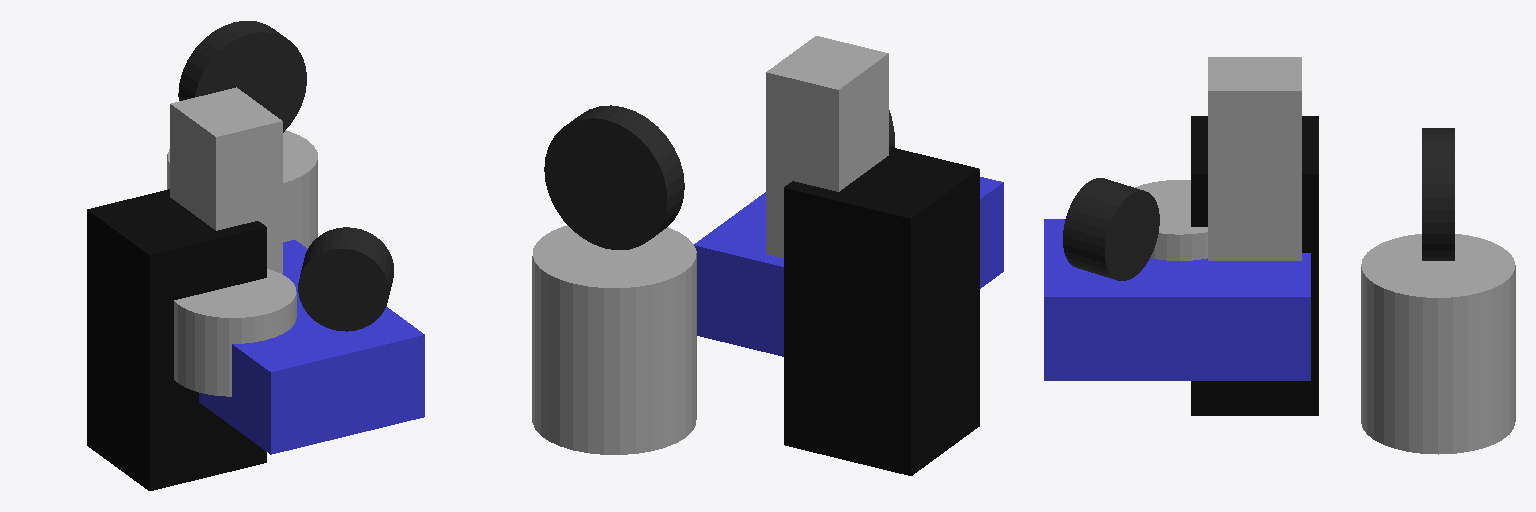
The robot description file, URDF, robot "evolved_robot":
<?xml version="1.0"?>
<robot name="evolved_robot">
  <material name="metal">
    <color rgba="0.7 0.7 0.7 1.0"/>
  </material>
  <material name="plastic">
    <color rgba="0.3 0.3 0.9 1.0"/>
  </material>
  <material name="rubber">
    <color rgba="0.1 0.1 0.1 1.0"/>
  </material>
  <material name="red">
    <color rgba="1.0 0.0 0.0 1.0"/>
  </material>
  <material name="wheel_material">
    <color rgba="0.2 0.2 0.2 1.0"/>
  </material>
  <link name="base_link">
    <visual>
      <geometry><cylinder radius="0.05588898639542036" length="0.07639821005748276"/></geometry>
      <material name="metal"/>
    </visual>
    <collision>
      <geometry><cylinder radius="0.05588898639542036" length="0.07639821005748276"/></geometry>
    </collision>
    <inertial>
      <mass value="5.0"/>
      <inertia ixx="0.012672852417424755" ixy="0" ixz="0" 
               iyy="0.012672852417424755" iyz="0" 
               izz="0.01561789400153741"/>
    </inertial>
  </link>
  <link name="link1">
    <visual>
      <geometry><box size="0.11917431337635126 0.11061178327480387 0.2294809829607225"/></geometry>
      <material name="rubber"/>
    </visual>
    <collision>
      <geometry><box size="0.11917431337635126 0.11061178327480387 0.2294809829607225"/></geometry>
    </collision>
    <inertial>
      <mass value="0.5"/>
      <inertia ixx="0.005408040678320966" ixy="0" ixz="0" 
               iyy="0.005572003209112016" iyz="0" 
               izz="0.0022031236306630795"/>
    </inertial>
  </link>
  <joint name="joint1" type="prismatic">
    <parent link="base_link"/>
    <child link="link1"/>
    <origin xyz="-0.02002385730227043 0.0649827344271927 -0.026906907739256587" rpy="0 0 0"/>
    <axis xyz="-0.31939640161322247 -0.734801204132005 0.5983754081199197"/>
    <dynamics damping="0.91" friction="0.1"/>
    <limit lower="-2.6669289893398638" upper="1.3212163734831894" effort="100" velocity="100"/>
  </joint>
  <link name="link2">
    <visual>
      <geometry>
        <cylinder radius="0.04036086922406924" length="0.04460145721950509"/>
      </geometry>
      <material name="wheel_material"/>
    </visual>
    <collision>
      <geometry>
        <cylinder radius="0.04036086922406924" length="0.04460145721950509"/>
      </geometry>
    </collision>
    <inertial>
      <mass value="1.0"/>
      <inertia ixx="0.0005730241066392169" ixy="0" ixz="0" 
               iyy="0.0005730241066392169" iyz="0" 
               izz="0.0008144998822612099"/>
    </inertial>
  </link>
  <joint name="joint2" type="continuous">
    <parent link="base_link"/>
    <child link="link2"/>
    <origin xyz="0.08096304352146494 -0.05882309431509322 0.0547200042663707" rpy="1.5708 0.5003718691182113 -0.6283185307179588"/>
    <axis xyz="0 0 1"/>
    <dynamics damping="0.13657292100048057" friction="0.1"/>
  </joint>
  <link name="link3">
    <visual>
      <geometry><box size="0.15703034311371555 0.22925244393886302 0.08"/></geometry>
      <material name="plastic"/>
    </visual>
    <collision>
      <geometry><box size="0.15703034311371555 0.22925244393886302 0.08"/></geometry>
    </collision>
    <inertial>
      <mass value="0.5"/>
      <inertia ixx="0.004913056920995127" ixy="0" ixz="0" 
               iyy="0.0025882107215342695" iyz="0" 
               izz="0.0064346009758627296"/>
    </inertial>
  </link>
  <joint name="joint3" type="fixed">
    <parent link="link1"/>
    <child link="link3"/>
    <origin xyz="0.06958715668817562 -0.06667316978904815 0" rpy="0 0 0"/>
    <axis xyz="-0.12036308692576936 -0.7880062421866469 -0.6037871227349744"/>
    <dynamics damping="0.24508194084643747" friction="0.1"/>
  </joint>
  <link name="link4">
    <visual>
      <geometry><cylinder radius="0.06642194101370963" length="0.1485855096572608"/></geometry>
      <material name="metal"/>
    </visual>
    <collision>
      <geometry><cylinder radius="0.06642194101370963" length="0.1485855096572608"/></geometry>
    </collision>
    <inertial>
      <mass value="0.5"/>
      <inertia ixx="0.002942773035349509" ixy="0" ixz="0" 
               iyy="0.002942773035349509" iyz="0" 
               izz="0.0022059371240143607"/>
    </inertial>
  </link>
  <joint name="joint4" type="fixed">
    <parent link="link3"/>
    <child link="link4"/>
    <origin xyz="0.08851517155685777 0.2242194162003283 0" rpy="0 0 0"/>
    <axis xyz="-0.5367192651573203 -0.7936743974657241 -0.2863797849297436"/>
    <dynamics damping="0.8005474401665198" friction="0.1"/>
  </joint>
  <link name="link5">
    <visual>
      <geometry><box size="0.06773954950073251 0.08095161333561414 0.16200251282294512"/></geometry>
      <material name="metal"/>
    </visual>
    <collision>
      <geometry><box size="0.06773954950073251 0.08095161333561414 0.16200251282294512"/></geometry>
    </collision>
    <inertial>
      <mass value="0.5"/>
      <inertia ixx="0.0027331648218822733" ixy="0" ixz="0" 
               iyy="0.00256945506062589" iyz="0" 
               izz="0.0009284841890167475"/>
    </inertial>
  </link>
  <joint name="joint5" type="fixed">
    <parent link="link1"/>
    <child link="link5"/>
    <origin xyz="0.05059464853824552 0 0.12474049148036125" rpy="0 0 0"/>
    <axis xyz="0.30200667254420793 -0.337913532036312 0.8914069859528363"/>
    <dynamics damping="0.9520378779889687" friction="0.1"/>
  </joint>
  <link name="link6">
    <visual>
      <geometry>
        <cylinder radius="0.057427748730224985" length="0.02803689590286614"/>
      </geometry>
      <material name="wheel_material"/>
    </visual>
    <collision>
      <geometry>
        <cylinder radius="0.057427748730224985" length="0.02803689590286614"/>
      </geometry>
    </collision>
    <inertial>
      <mass value="1.0"/>
      <inertia ixx="0.0008899922087111437" ixy="0" ixz="0" 
               iyy="0.0008899922087111437" iyz="0" 
               izz="0.0016489731621109286"/>
    </inertial>
  </link>
  <joint name="joint6" type="continuous">
    <parent link="link4"/>
    <child link="link6"/>
    <origin xyz="0.0 0.0 0.1417205035588554" rpy="1.5708 0 0"/>
    <axis xyz="0 0 1"/>
    <dynamics damping="0.6715153224590337" friction="0.1"/>
  </joint>
</robot>

--- What the picture shows (computed from the rendered views, not written in the file) ---
3 views of the same robot in one strip: view 1: azimuth 30°, elevation 25°; view 2: azimuth 150°, elevation 25°; view 3: azimuth 270°, elevation 25° (orthographic).
Model evolved_robot with 7 links and 6 joints (2 continuous, 1 prismatic, 3 fixed), rooted at base_link, posed all joints at 0.
Visible links, largest first — view 1: link1, link3, link5, base_link, link6, link2, link4; view 2: link1, link4, link5, link6, link3; view 3: link3, link4, link5, link1, link2, link6, base_link.
Boxes of the visible links, x1,y1,x2,y2 form: link1: (87,189,266,490); link3: (199,240,424,454); link5: (170,87,282,274); base_link: (174,269,296,396); link6: (178,21,306,132); link2: (298,227,393,331); link4: (167,130,317,248); link1: (784,147,979,475); link4: (532,225,696,454); link5: (766,36,888,257); link6: (544,105,684,249); link3: (694,177,1003,356); link3: (1044,219,1310,380); link4: (1361,234,1515,454); link5: (1208,57,1301,260); link1: (1191,116,1318,415); link2: (1063,178,1159,280); link6: (1422,128,1454,260); base_link: (1135,180,1207,260).
Bounding box of the posed robot: 0.2841 × 0.4053 × 0.3205 m (x, y, z).
Geometry: primitives only (box / cylinder / sphere), no mesh files.